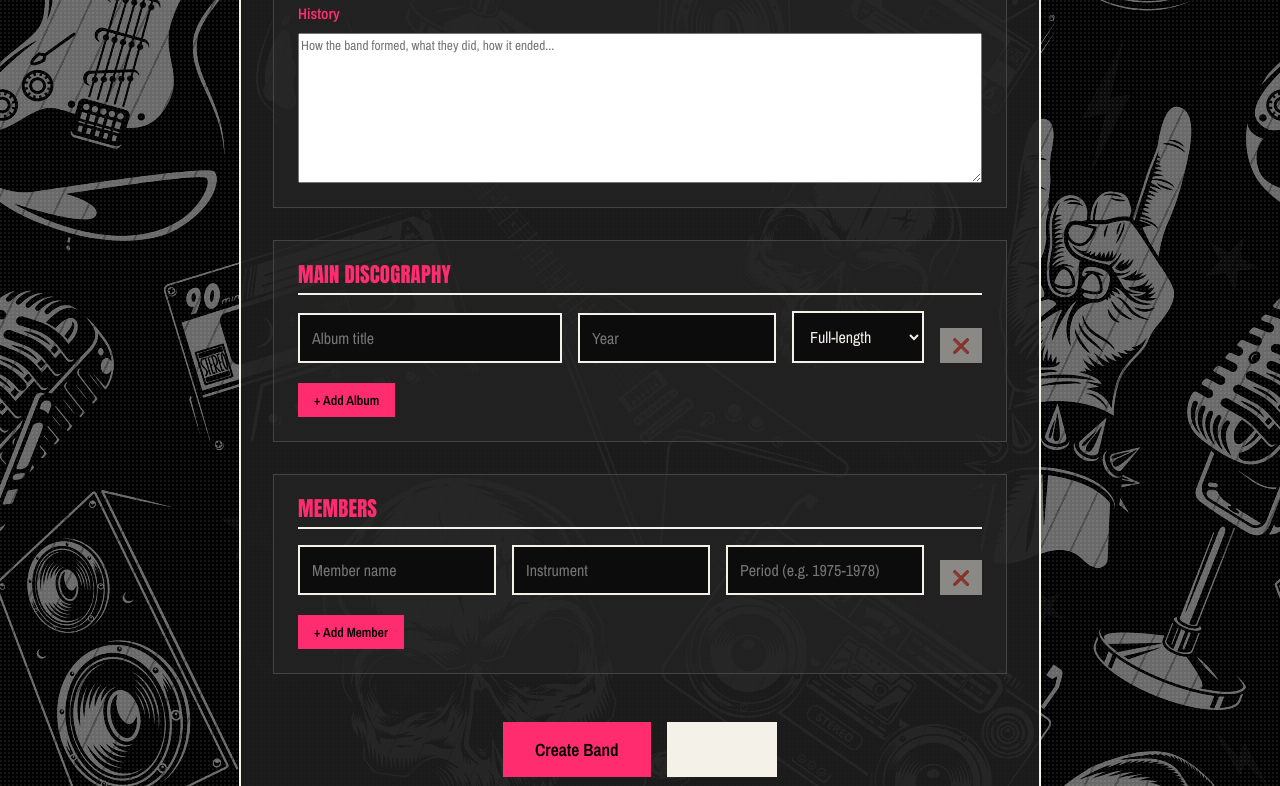
Test: AddBandForm › adds and removes album rows (at least one row stays)
The width and height of the screenshot is (1280, 786).
(page scrolled)
Expected: the button named "Remove album" is disabled, x1=940 y1=328 x2=982 y2=363
Click the button "+ Add Album" at x=347, y=400, box x1=298 y1=383 x2=395 y2=417
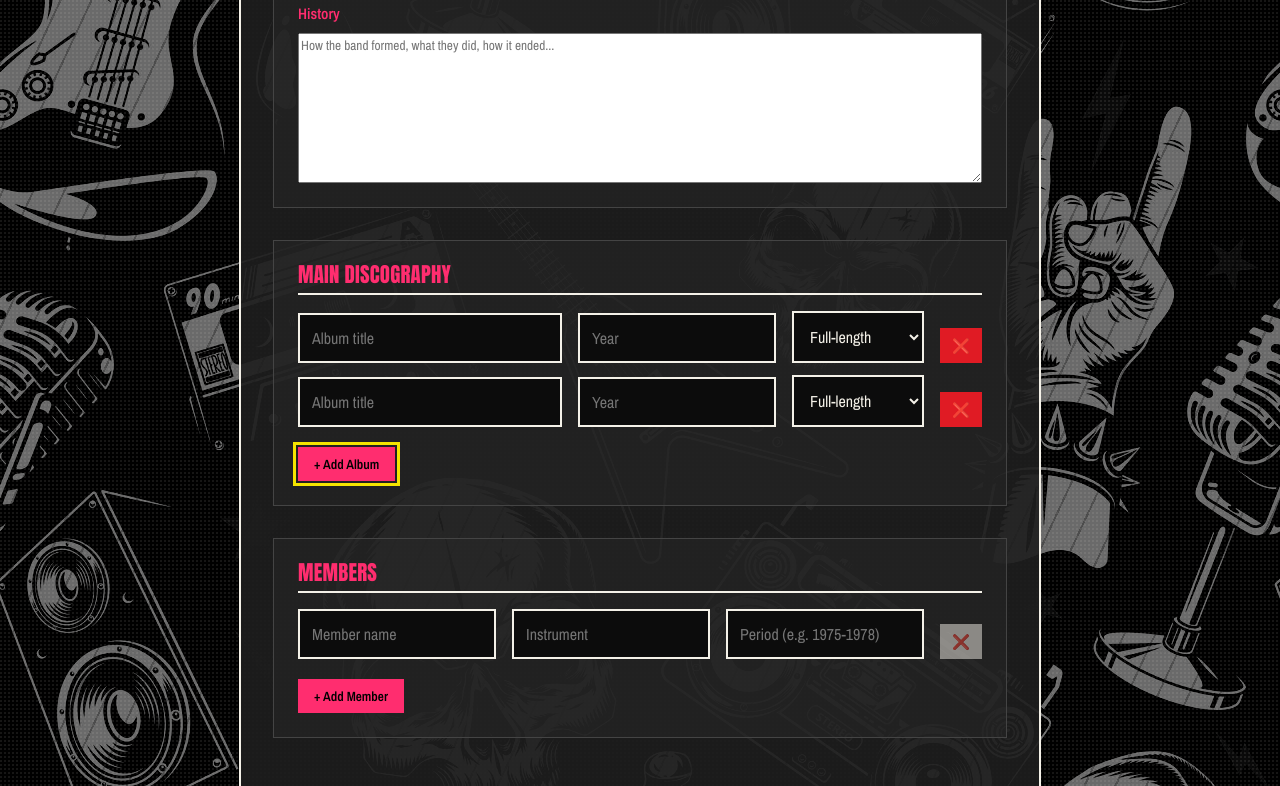
Now the number of fields labelled "Album title" is 2, box x1=298 y1=313 x2=562 y2=363; x1=298 y1=377 x2=562 y2=427
Click the button named "Remove album" at x=961, y=410, box x1=940 y1=392 x2=982 y2=427
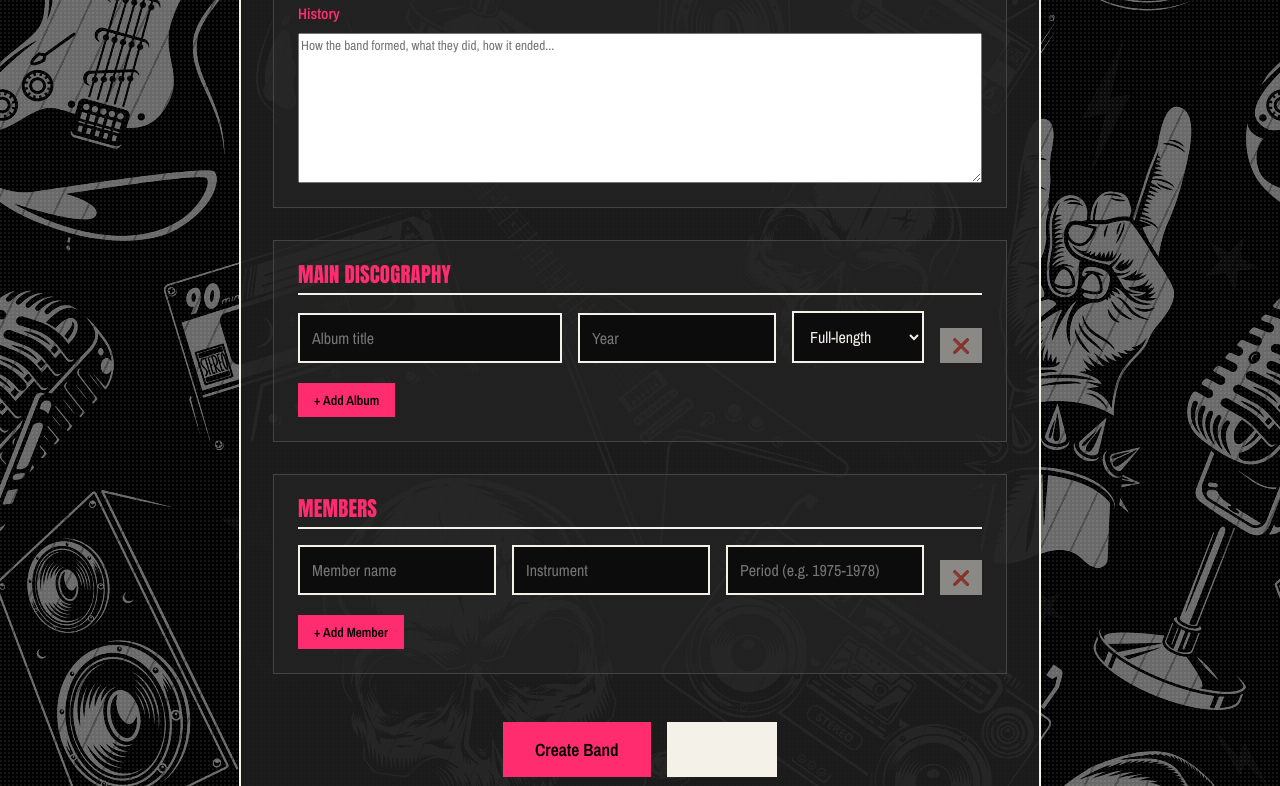
Now the number of fields labelled "Album title" is 1, box x1=298 y1=313 x2=562 y2=363
